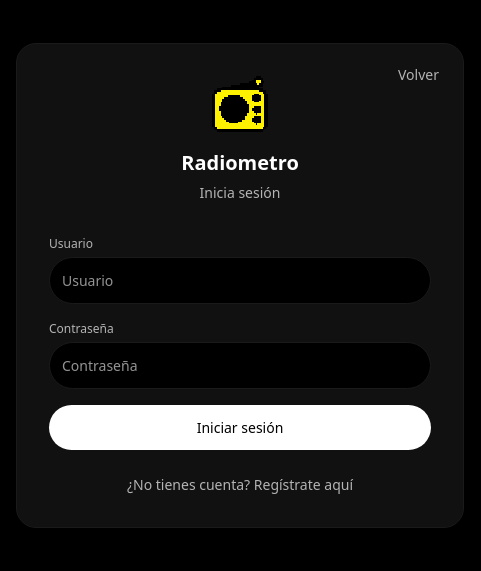
Test case: Auth › muestra el modo registro y valida password >= 8
Click the button "¿No tienes cuenta? Regístrate aquí": [240, 484] box [49,474,431,494]
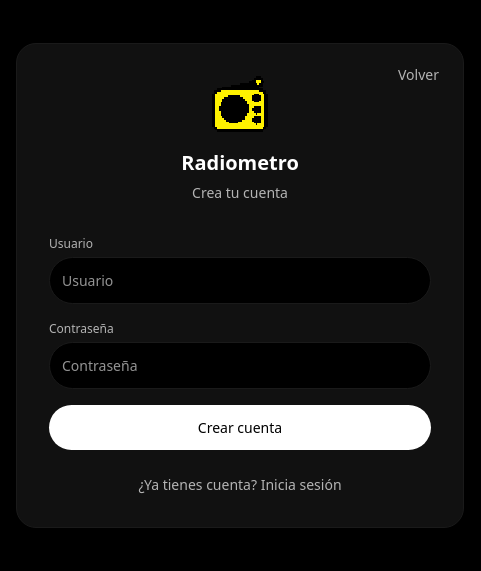
In the field with placeholder "Usuario": [240, 280] box [49,256,431,304], type "alice"
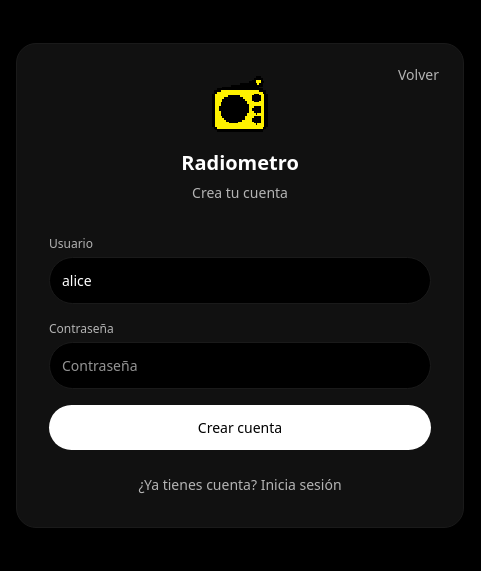
In the password field with placeholder "Contraseña": [240, 365] box [49,342,431,388], type "corta"
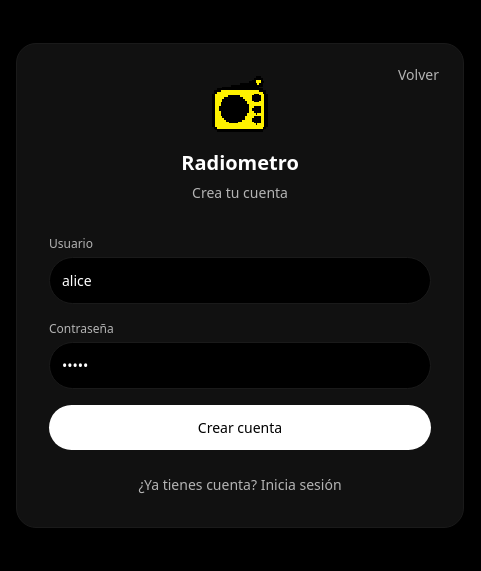
Click the button "Crear cuenta": [240, 427] box [49,404,431,450]
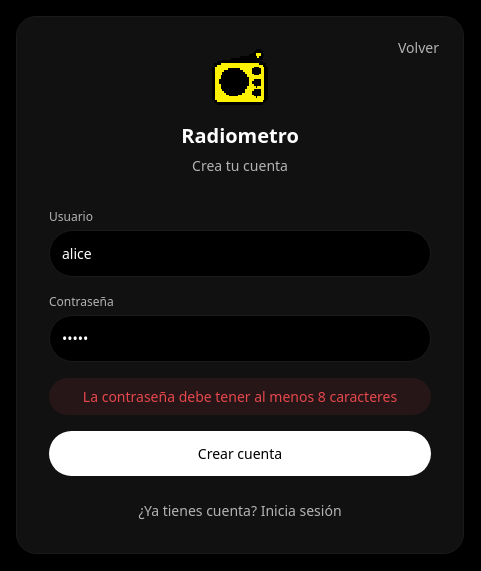
Now the button "Crear cuenta" is shown, box [49,431,431,476]
Now the text "La contraseña debe tener al menos 8 caracteres" is shown, box [49,378,431,415]
